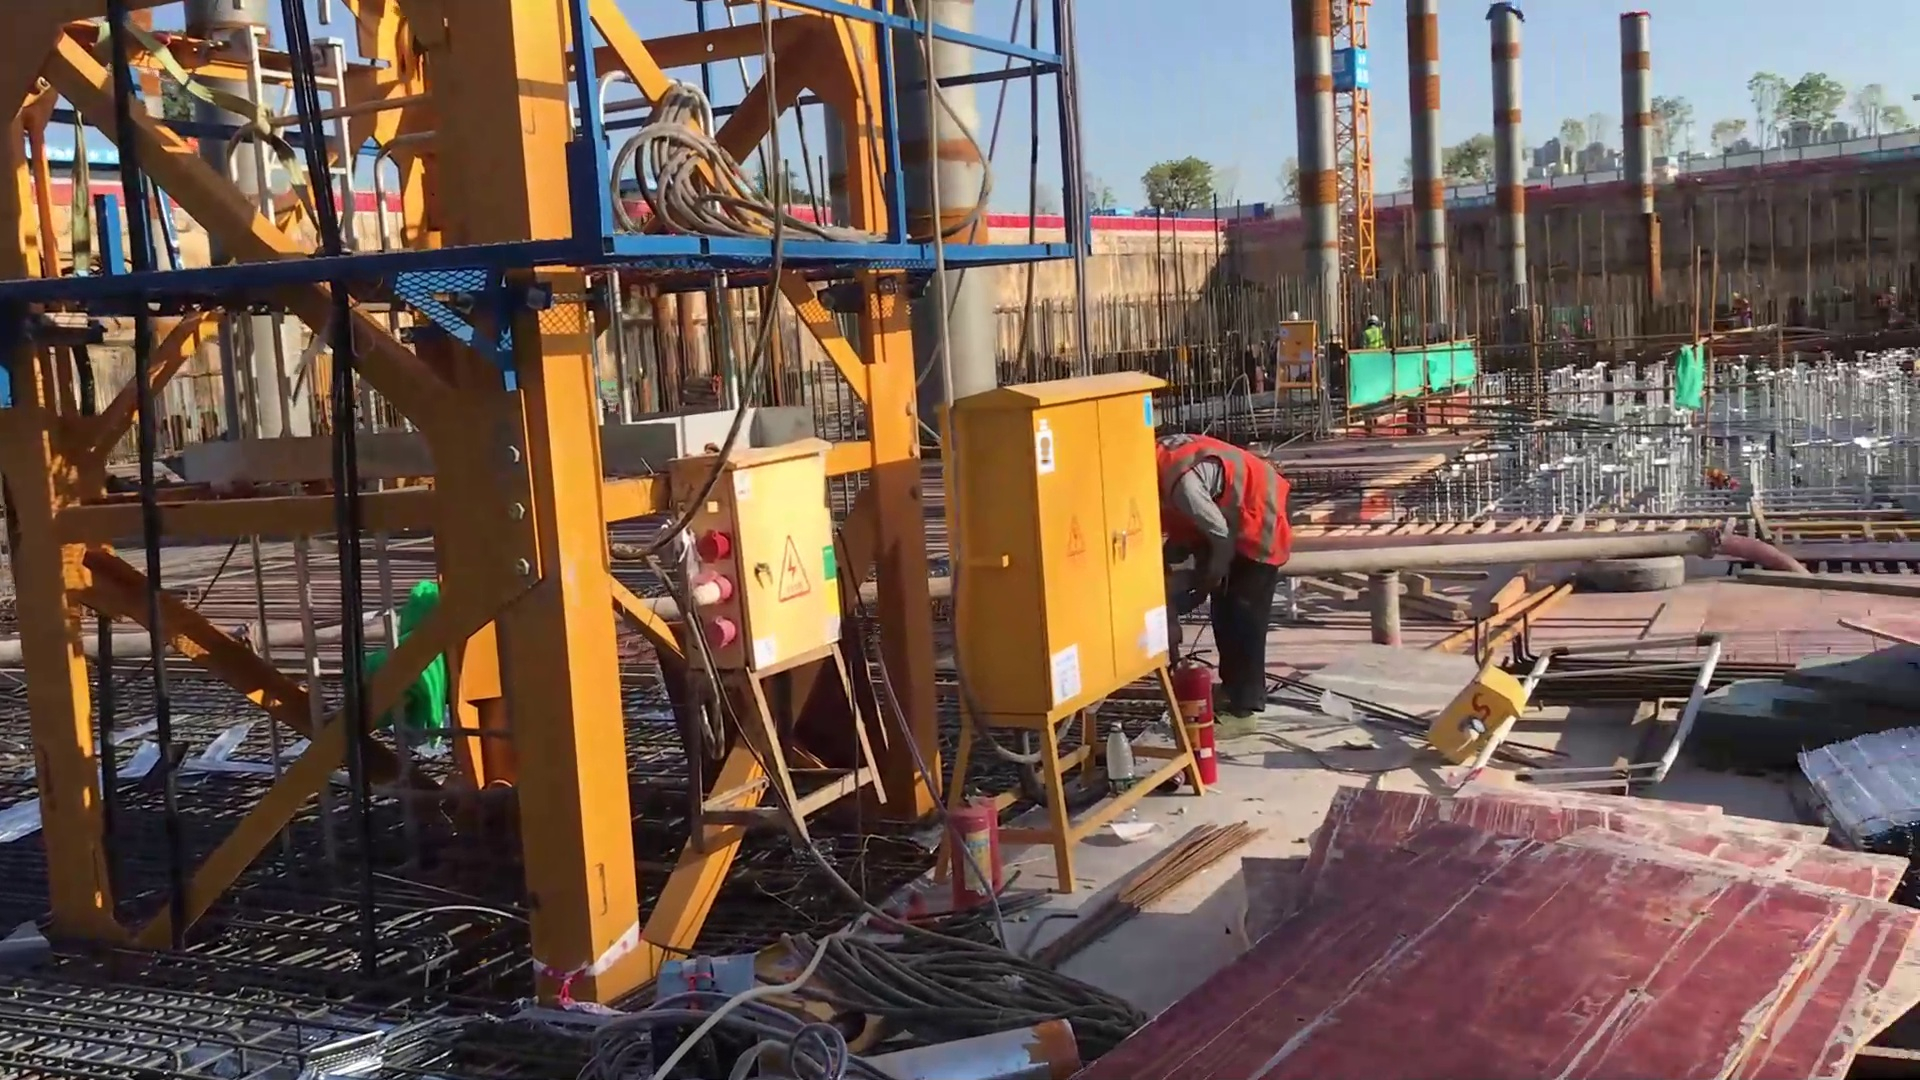ebox: (961, 374, 1226, 845), (683, 460, 918, 832), (1275, 316, 1322, 385)
fence: (1073, 213, 1219, 232), (994, 209, 1061, 225)
helmet: (1365, 314, 1380, 323), (1286, 311, 1299, 319)
person: (1154, 430, 1288, 730), (1362, 313, 1386, 352)
slogan: (1333, 48, 1375, 94), (1445, 194, 1502, 207)
vest: (1161, 431, 1293, 570), (1364, 325, 1385, 347)
